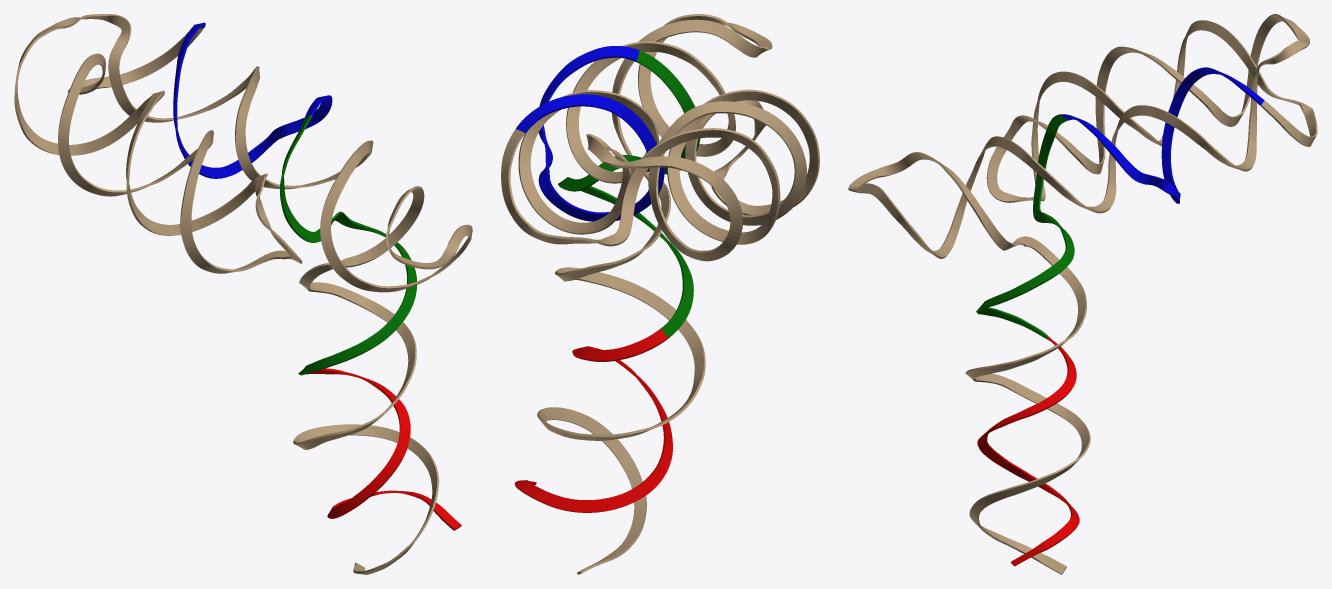
File: rna_colored.glb
3 renders of one model, left to right at view 1: azimuth 30°, elevation 25°; view 2: azimuth 150°, elevation 25°; view 3: azimuth 270°, elevation 25°, orthographic. The views are drawn at different scales.
Visible parts, largest first — view 1: ribbons; view 2: ribbons; view 3: ribbons.
Boxes of the visible parts, box(x1,y1,x2,y2) form: ribbons: box(14, 14, 472, 574); ribbons: box(501, 14, 819, 574); ribbons: box(848, 14, 1317, 574).
Bounding box in the file's own units: 67.45 × 101 × 92.35.
